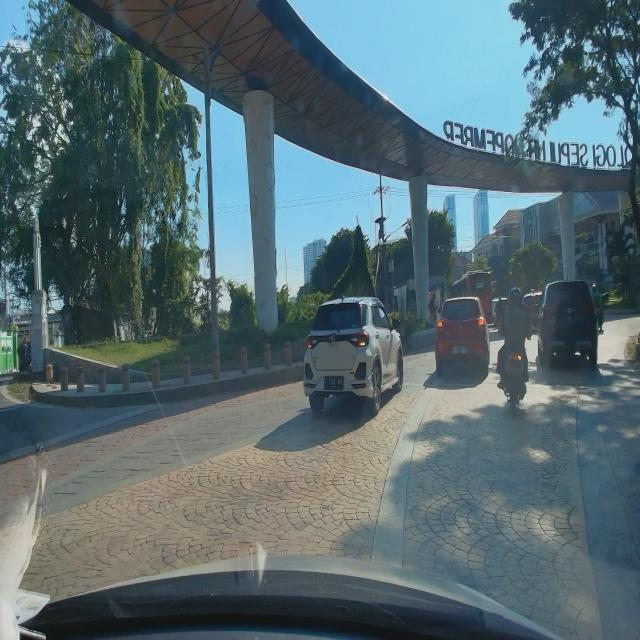car: (302, 292, 404, 418), (534, 278, 599, 368), (434, 292, 490, 375)
license-plate: (324, 377, 344, 389), (452, 346, 468, 354)
